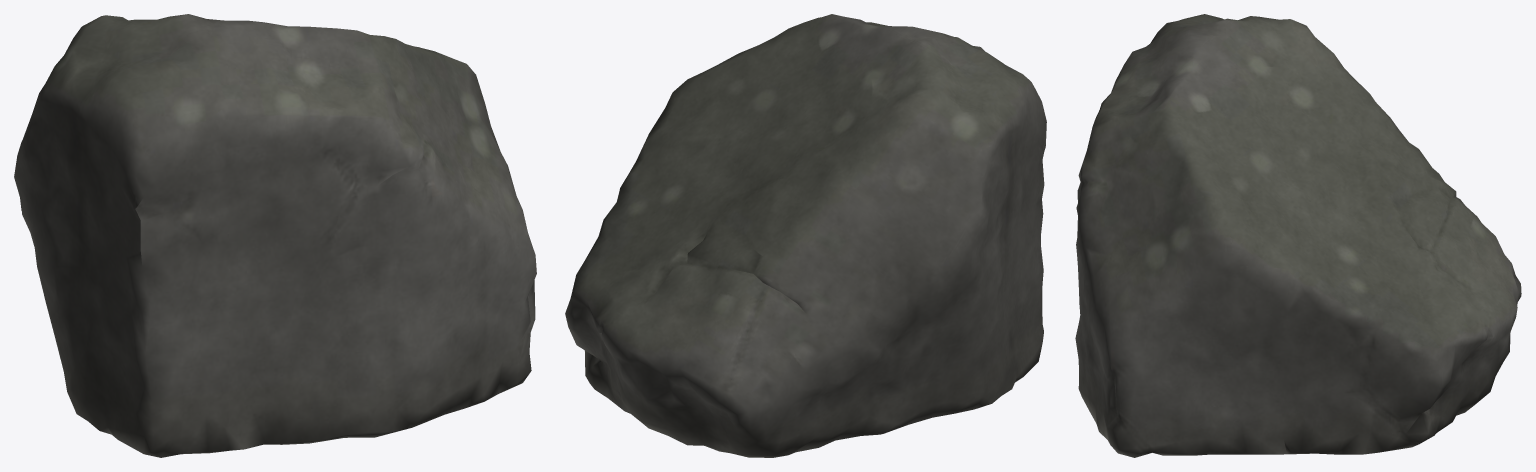
File: rock_block.glb
3 views of the same model, side by side, from view 1: azimuth 30°, elevation 25°; view 2: azimuth 150°, elevation 25°; view 3: azimuth 270°, elevation 25° (orthographic). The views are drawn at different scales.
Parts seen in each view (by area): view 1: rock_block; view 2: rock_block; view 3: rock_block.
Boxes of the visible parts, x1=… form: rock_block: x1=14, y1=14, x2=536, y2=457; rock_block: x1=565, y1=14, x2=1046, y2=457; rock_block: x1=1075, y1=14, x2=1521, y2=457.
Bounding box in the file's own units: 0.6276 × 0.5749 × 0.7129.
1 material, 1 textured.
